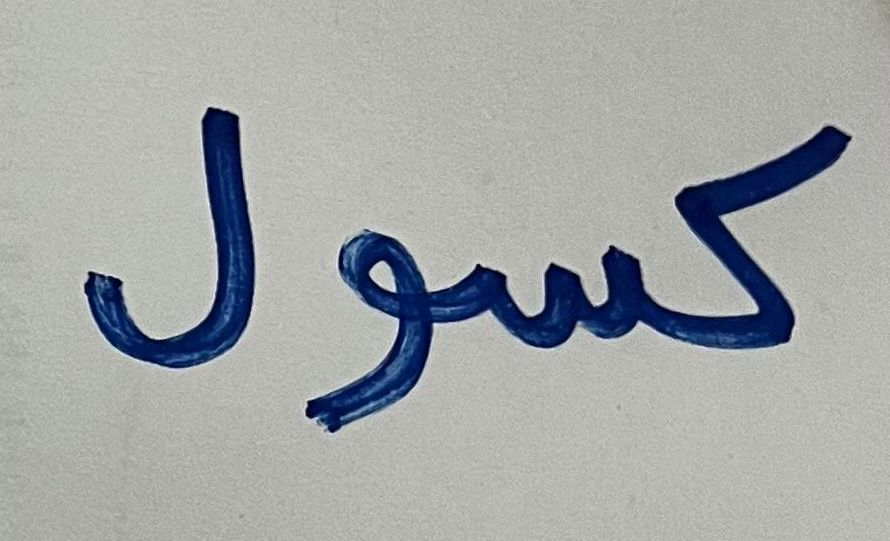kaf: (661, 94, 873, 413)
lam: (64, 59, 286, 434)
seen: (457, 206, 654, 419)
waw: (294, 208, 448, 455)
